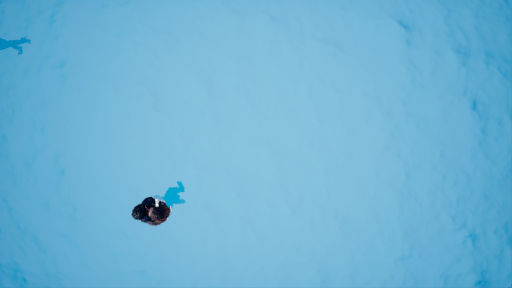person: (124, 181, 190, 227)
